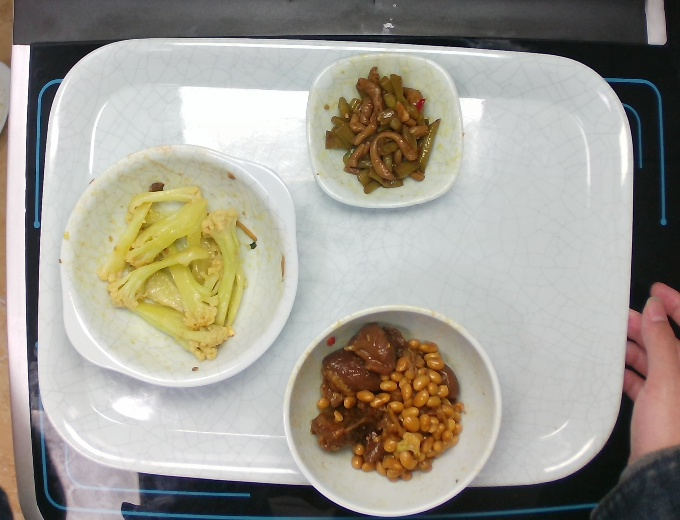JYsf-Fan_Wan: (283, 304, 501, 518)
JYsf-Shuang_Er_Wan: (57, 143, 304, 387)
JYsf-Si_Fang_Die: (306, 56, 464, 209)
